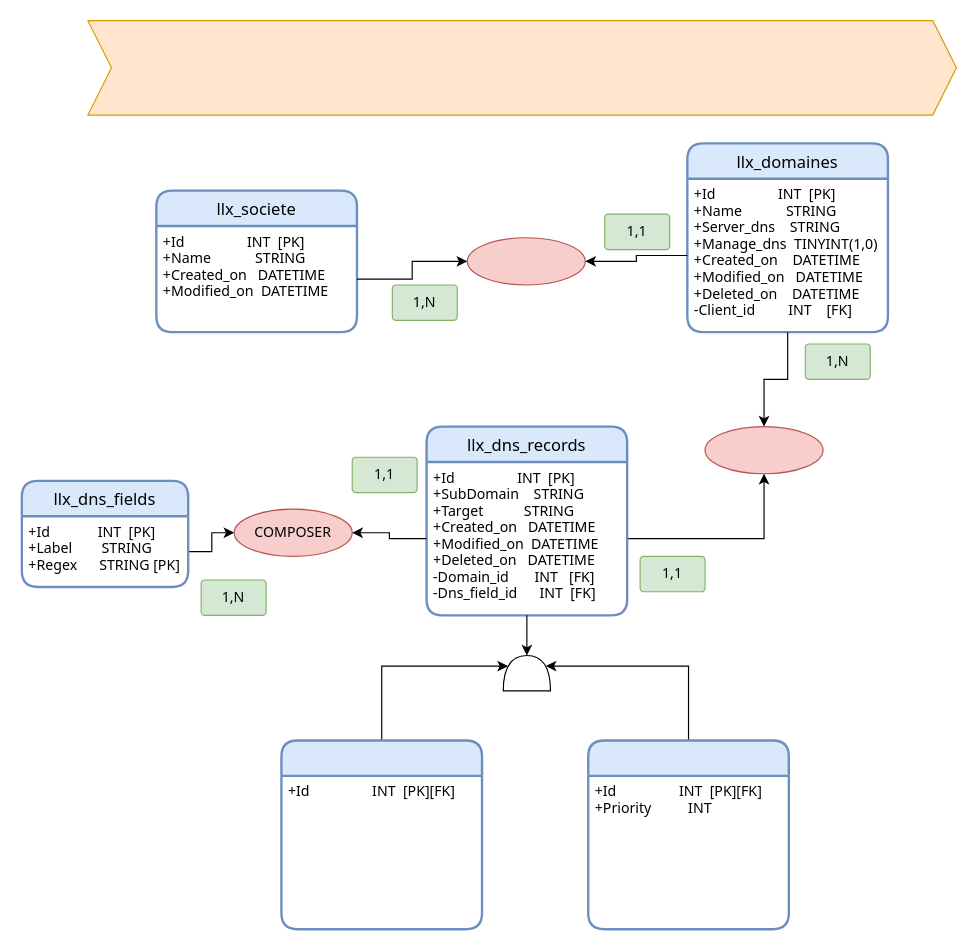
Some shapes in this 977 by 951 pixel diagram are drawn without their labels. Each missing label, with the box of its shape:
APPARTENIR: (704, 425, 823, 474)
llx_dns_mx: (586, 739, 789, 930)
llx_dns_standard: (280, 739, 483, 930)
Modèle Conceptuel de Données | Tables nécessaires au module: (87, 19, 956, 115)
RENSEIGNER: (466, 237, 585, 285)
XT: (502, 654, 550, 691)
